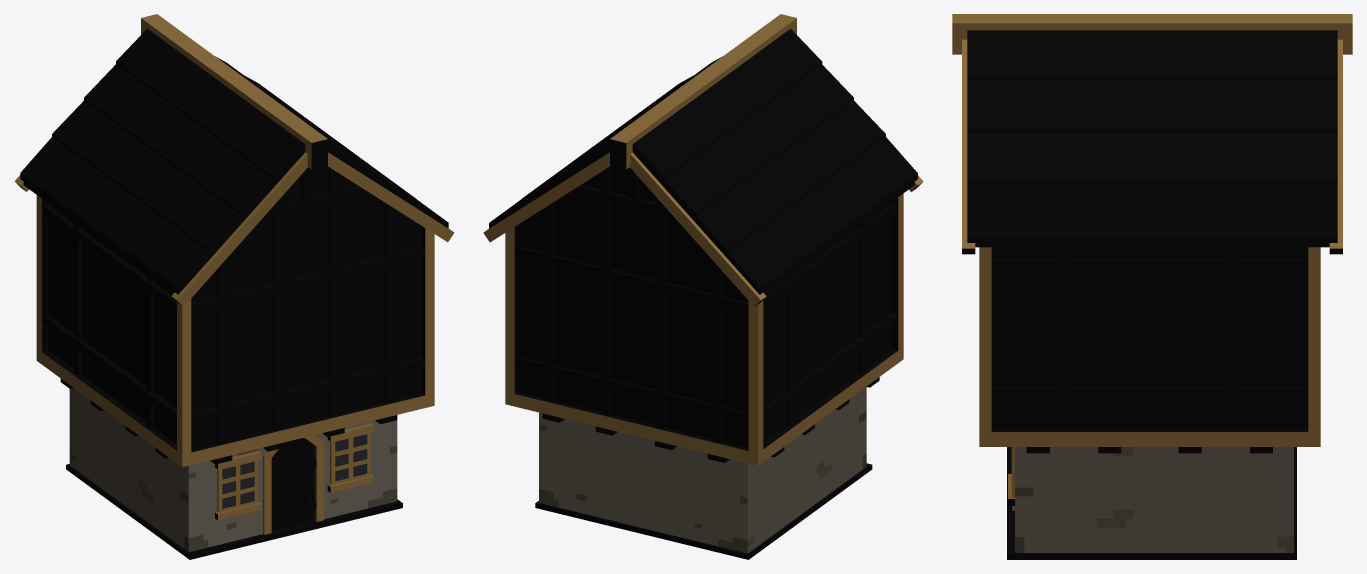
Rendered from House_Large_Blank.gltf.
The picture shows the model from 3 angles, left to right: view 1: azimuth 30°, elevation 25°; view 2: azimuth 150°, elevation 25°; view 3: azimuth 270°, elevation 25°; orthographic projection. The views are drawn at different scales.
Parts seen in each view (by area): view 1: SF_Bld_House_Large_Blank_01; view 2: SF_Bld_House_Large_Blank_01; view 3: SF_Bld_House_Large_Blank_01.
Boxes of the visible parts, x1,y1,x2,y2 form: SF_Bld_House_Large_Blank_01: (14, 14, 454, 559); SF_Bld_House_Large_Blank_01: (483, 14, 923, 559); SF_Bld_House_Large_Blank_01: (952, 14, 1352, 559).
Size of the model in its own units: 0.1224 by 0.1727 by 0.1304.
1 material, 1 textured.
